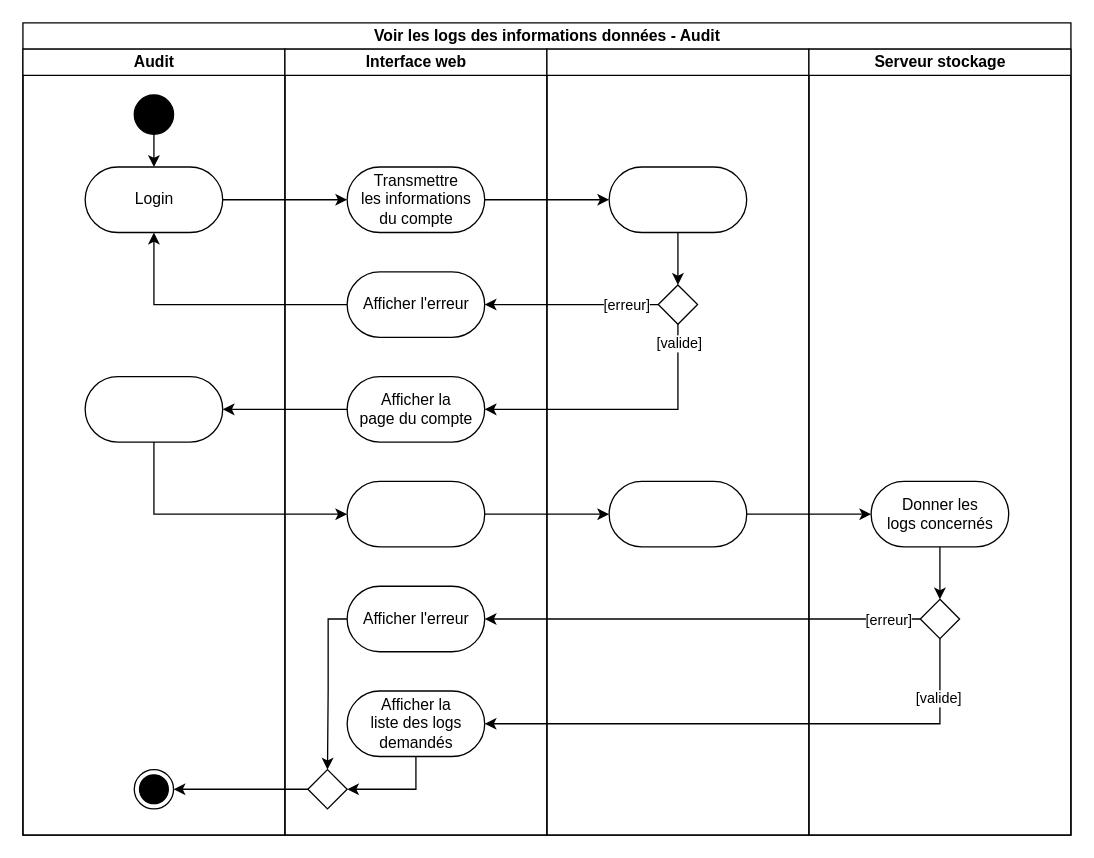
Some shapes in this 1094 by 858 pixel diagram are drawn without their labels. The shapes that lost their labels are listed below. From the top down, each one's box as (x1, y1, x2, y2) in pixels, then its label:
(608, 166, 747, 233): Vérifier le compte
(84, 375, 223, 442): Voir les logs entre deux dates
(546, 48, 809, 835): Serveur backend
(346, 480, 485, 547): Envoyer la requête
(608, 480, 747, 547): Demander les informations
